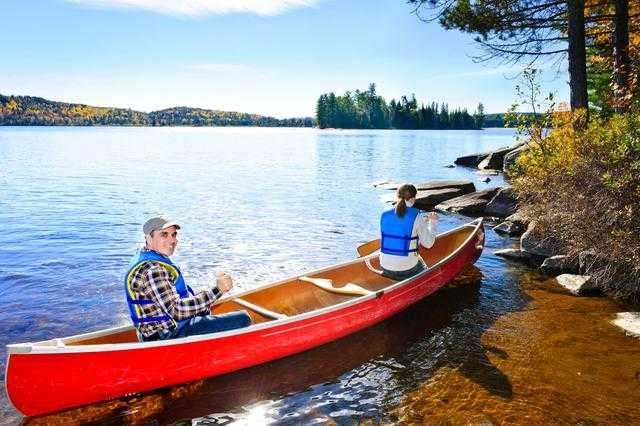kayak: (6, 208, 486, 421)
